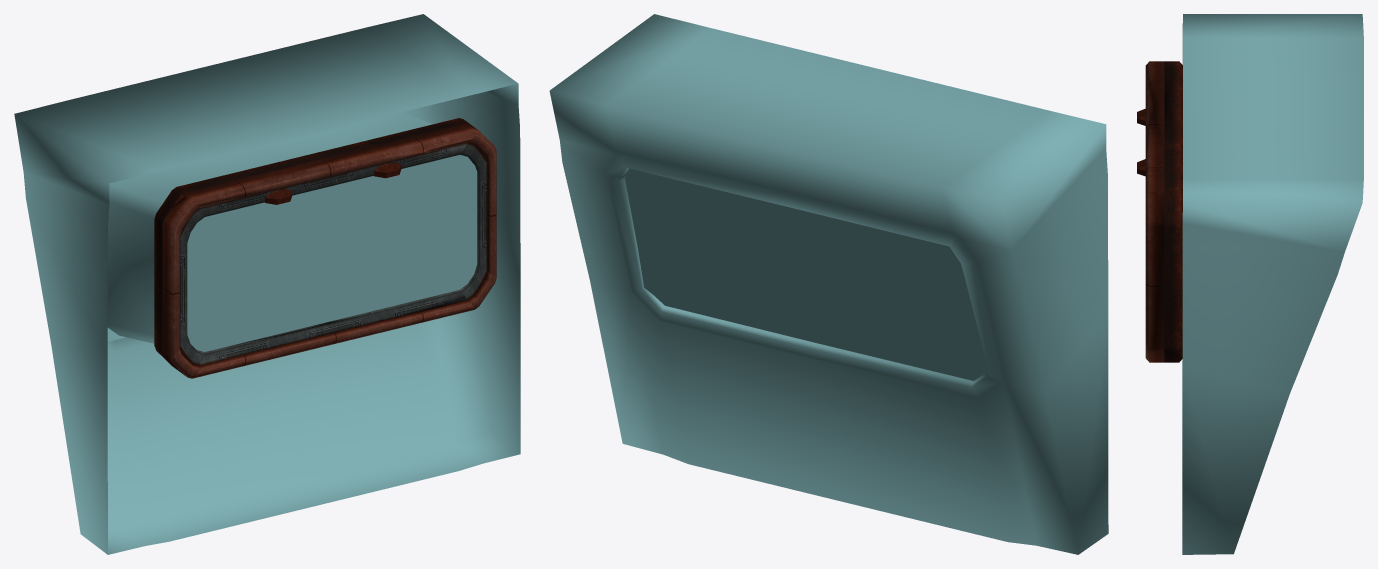
File: 04_02_reactorwall_window.DAE
The picture shows the model from 3 angles, left to right: view 1: azimuth 30°, elevation 25°; view 2: azimuth 150°, elevation 25°; view 3: azimuth 270°, elevation 25°; orthographic projection. The views are drawn at different scales.
Parts seen in each view (by area): view 1: window_frame, pPlane4; view 2: window_frame, pPlane006; view 3: window_frame.
Part boxes in pixels (box(x1,y1,x2,y2)): window_frame: box(14, 14, 520, 554); pPlane4: box(178, 155, 477, 369); window_frame: box(549, 14, 1108, 554); pPlane006: box(625, 168, 988, 380); window_frame: box(1137, 14, 1363, 554).
Bounding box in the file's own units: 5.38 × 4.64 × 2.7.
